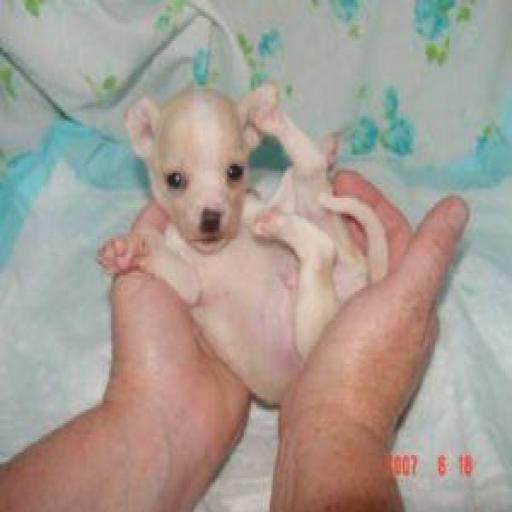dog_face: (126, 85, 272, 238)
